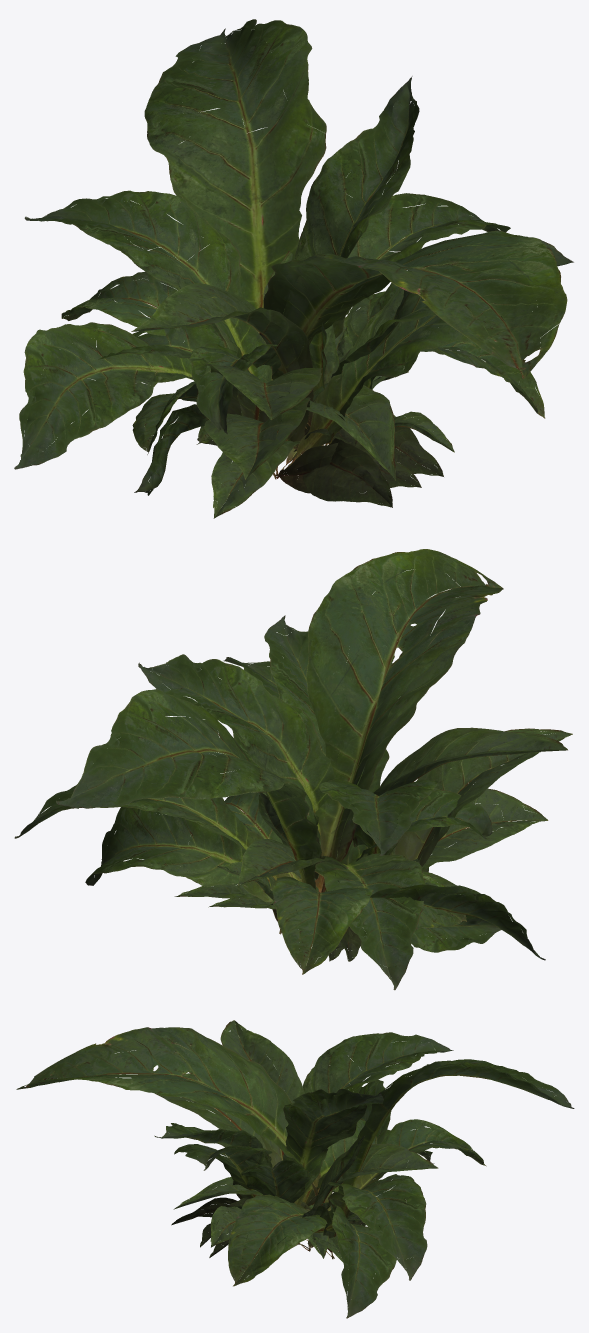
The model's file is anthurium_botany_01.fbx.
3 views of the same model, one above another, from view 1: azimuth 30°, elevation 25°; view 2: azimuth 150°, elevation 25°; view 3: azimuth 270°, elevation 25° (orthographic). The views are drawn at different scales.
Visible parts, largest first — view 1: anthurium_botany_01_a.001, anthurium_botany_01_b.001, anthurium_botany_01_c.001, anthurium_botany_04_d.001; view 2: anthurium_botany_01_a.001, anthurium_botany_01_b.001, anthurium_botany_01_c.001, anthurium_botany_04_d.001, anthurium_botany_06_f.001, anthurium_botany_05_e.001; view 3: anthurium_botany_01_a.001, anthurium_botany_01_b.001, anthurium_botany_01_c.001, anthurium_botany_04_d.001, anthurium_botany_05_e.001.
Boxes of the visible parts, x1,y1,x2,y2 form: anthurium_botany_01_a.001: [14, 19, 567, 480]; anthurium_botany_01_b.001: [96, 76, 573, 507]; anthurium_botany_01_c.001: [24, 190, 571, 493]; anthurium_botany_04_d.001: [211, 251, 443, 518]; anthurium_botany_01_a.001: [14, 549, 545, 974]; anthurium_botany_01_b.001: [85, 615, 567, 990]; anthurium_botany_01_c.001: [223, 657, 572, 885]; anthurium_botany_04_d.001: [174, 726, 461, 961]; anthurium_botany_06_f.001: [208, 859, 410, 961]; anthurium_botany_05_e.001: [216, 821, 326, 934]; anthurium_botany_01_a.001: [16, 1027, 574, 1286]; anthurium_botany_01_b.001: [154, 1020, 434, 1318]; anthurium_botany_01_c.001: [146, 1032, 453, 1258]; anthurium_botany_04_d.001: [209, 1135, 367, 1262]; anthurium_botany_05_e.001: [227, 1204, 361, 1259].
Bounding box in the file's own units: 0.8964 × 0.4998 × 1.14.
Materials: 1 (1 with a texture image).
